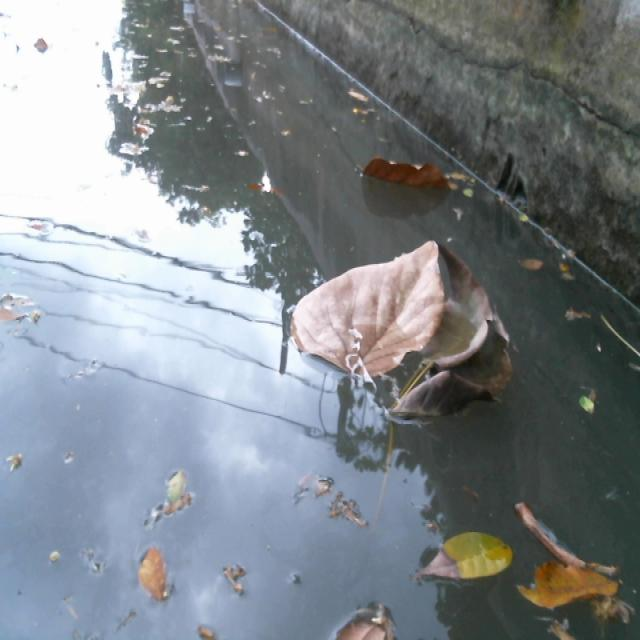Big-leaf: (257, 217, 447, 370), (365, 263, 524, 430), (507, 484, 622, 619), (356, 138, 454, 198)
Small-leaf: (420, 529, 518, 586), (130, 468, 198, 543), (118, 554, 178, 614), (331, 602, 397, 640), (246, 162, 289, 200), (578, 387, 615, 431), (345, 89, 379, 124), (512, 242, 545, 272), (456, 178, 477, 199)
